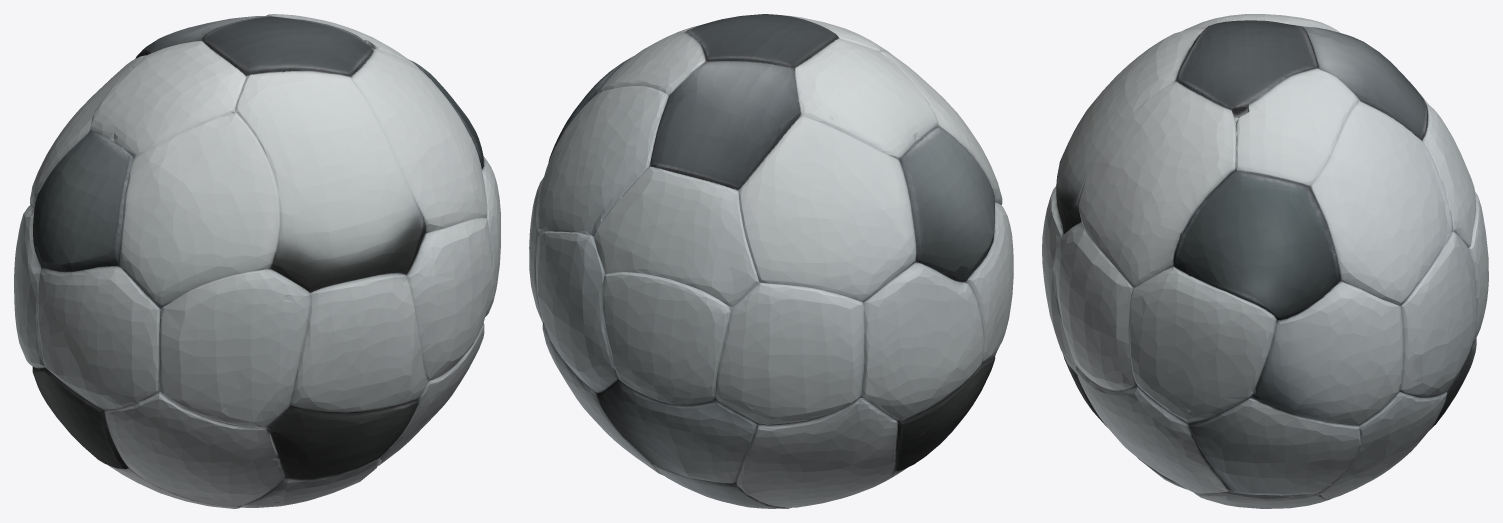
File: football.glb
3 renders of one model, left to right at view 1: azimuth 30°, elevation 25°; view 2: azimuth 150°, elevation 25°; view 3: azimuth 270°, elevation 25°, orthographic. The views are drawn at different scales.
Parts seen in each view (by area): view 1: world; view 2: world; view 3: world.
Boxes of the visible parts, box(x1,y1,x2,y2) form: world: box(14, 14, 500, 508); world: box(529, 14, 1013, 508); world: box(1042, 14, 1488, 508).
Bounding box in the file's own units: 0.9945 × 0.9961 × 0.8873.
1 material, 1 textured.
